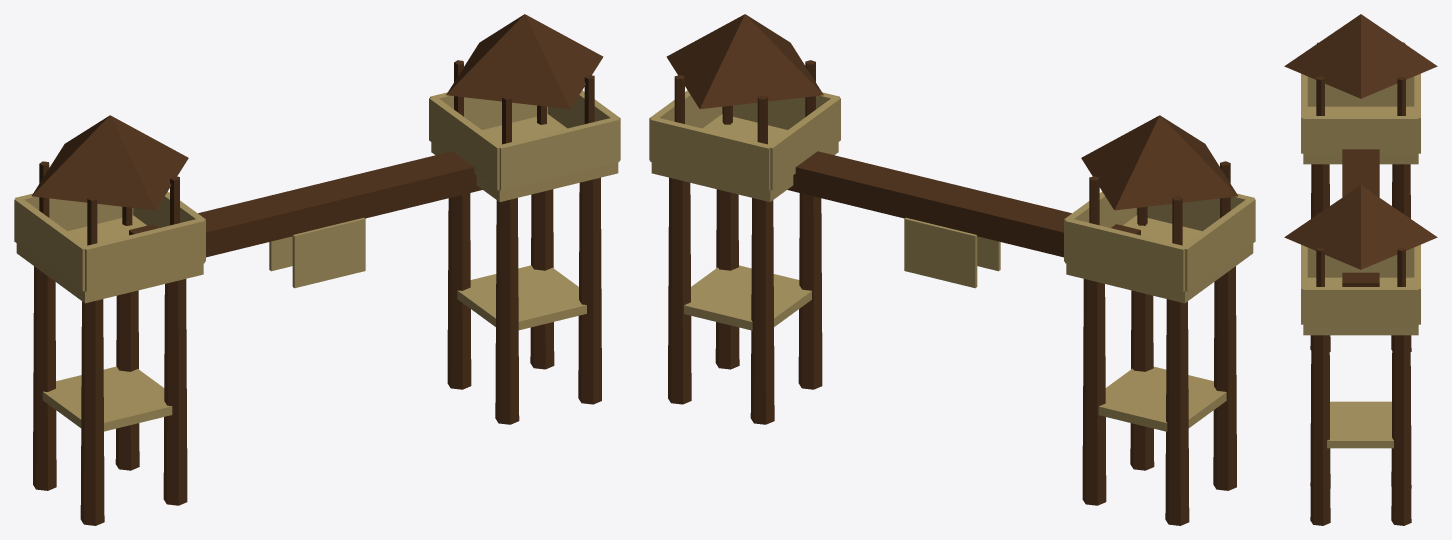
File: elephant_gate_broken.glb
3 renders of one model, left to right at view 1: azimuth 30°, elevation 25°; view 2: azimuth 150°, elevation 25°; view 3: azimuth 270°, elevation 25°, orthographic. The views are drawn at different scales.
Parts seen in each view (by area): view 1: elephant_gate_piece1, elephant_gate_piece2, elephant_gate_piece13, elephant_gate_piece3, elephant_gate_piece5, elephant_gate_piece4, elephant_gate_piece9, elephant_gate_piece8, elephant_gate_piece10, elephant_gate_piece7, elephant_gate_piece6, elephant_gate_piece11 (+1 smaller); view 2: elephant_gate_piece1, elephant_gate_piece3, elephant_gate_piece5, elephant_gate_piece13, elephant_gate_piece2, elephant_gate_piece8, elephant_gate_piece4, elephant_gate_piece10, elephant_gate_piece0, elephant_gate_piece11, elephant_gate_piece9; view 3: elephant_gate_piece1, elephant_gate_piece3, elephant_gate_piece2, elephant_gate_piece8, elephant_gate_piece4, elephant_gate_piece13, elephant_gate_piece10, elephant_gate_piece7, elephant_gate_piece5, elephant_gate_piece0.
Part boxes in pixels (x1=…): elephant_gate_piece1: x1=14, y1=115, x2=219, y2=344; elephant_gate_piece2: x1=462, y1=160, x2=620, y2=424; elephant_gate_piece13: x1=238, y1=137, x2=589, y2=265; elephant_gate_piece3: x1=429, y1=14, x2=620, y2=170; elephant_gate_piece5: x1=33, y1=309, x2=166, y2=525; elephant_gate_piece4: x1=395, y1=66, x2=581, y2=165; elephant_gate_piece9: x1=89, y1=362, x2=187, y2=525; elephant_gate_piece8: x1=448, y1=193, x2=537, y2=364; elephant_gate_piece10: x1=200, y1=203, x2=302, y2=266; elephant_gate_piece7: x1=166, y1=241, x2=365, y2=354; elephant_gate_piece6: x1=166, y1=252, x2=365, y2=401; elephant_gate_piece11: x1=447, y1=313, x2=471, y2=389; elephant_gate_piece1: x1=1048, y1=115, x2=1255, y2=383; elephant_gate_piece3: x1=649, y1=14, x2=795, y2=237; elephant_gate_piece5: x1=1082, y1=290, x2=1236, y2=525; elephant_gate_piece13: x1=752, y1=92, x2=1011, y2=284; elephant_gate_piece2: x1=668, y1=189, x2=822, y2=402; elephant_gate_piece8: x1=668, y1=200, x2=777, y2=404; elephant_gate_piece4: x1=760, y1=36, x2=853, y2=237; elephant_gate_piece10: x1=992, y1=198, x2=1071, y2=255; elephant_gate_piece0: x1=754, y1=101, x2=884, y2=233; elephant_gate_piece11: x1=750, y1=352, x2=774, y2=424; elephant_gate_piece9: x1=1130, y1=328, x2=1206, y2=470; elephant_gate_piece1: x1=1284, y1=14, x2=1437, y2=218; elephant_gate_piece3: x1=1295, y1=185, x2=1437, y2=357; elephant_gate_piece2: x1=1301, y1=323, x2=1407, y2=525; elephant_gate_piece8: x1=1385, y1=335, x2=1411, y2=524; elephant_gate_piece4: x1=1284, y1=213, x2=1397, y2=286; elephant_gate_piece13: x1=1301, y1=181, x2=1379, y2=286; elephant_gate_piece10: x1=1342, y1=165, x2=1379, y2=189; elephant_gate_piece7: x1=1311, y1=188, x2=1324, y2=218; elephant_gate_piece5: x1=1311, y1=164, x2=1411, y2=351; elephant_gate_piece0: x1=1332, y1=258, x2=1351, y2=286.
Bounding box in the file's own units: 4.83 × 3.05 × 1.33.
